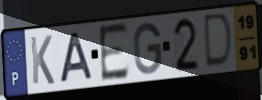2: (172, 15, 201, 75)
A: (58, 31, 95, 85)
D: (203, 12, 235, 70)
E: (97, 21, 131, 85)
G: (132, 21, 163, 77)
K: (28, 34, 56, 87)
